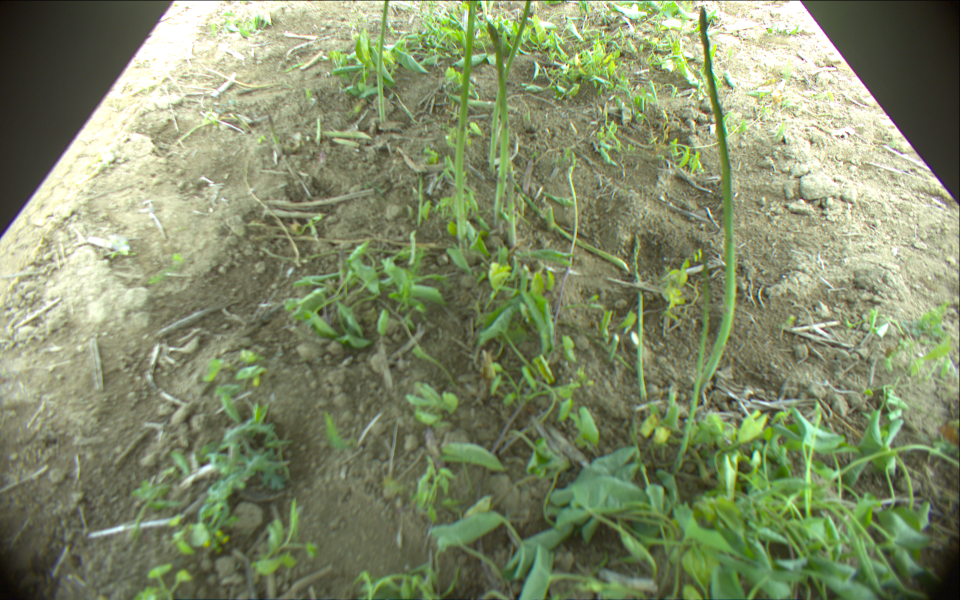aspa: (699, 8, 737, 389), (509, 171, 628, 272), (676, 256, 710, 464), (490, 1, 532, 168), (454, 1, 475, 247), (487, 20, 510, 238), (628, 234, 649, 402), (377, 1, 388, 121), (505, 166, 520, 248)
